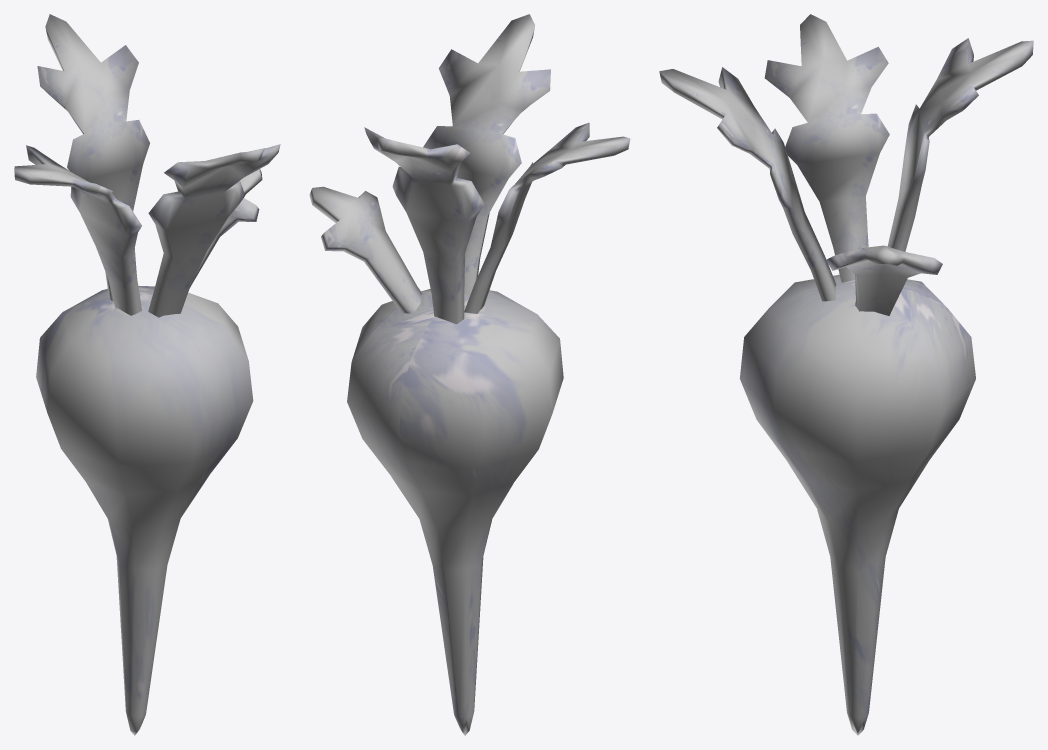
File: Radish.fbx
3 renders of one model, left to right at view 1: azimuth 30°, elevation 25°; view 2: azimuth 150°, elevation 25°; view 3: azimuth 270°, elevation 25°, orthographic. The views are drawn at different scales.
Parts seen in each view (by area): view 1: Radish; view 2: Radish; view 3: Radish.
Part boxes in pixels (<box>): Radish: <box>14,14,280,735</box>; Radish: <box>309,14,630,735</box>; Radish: <box>659,14,1033,735</box>.
Size of the model in its own units: 19.44 by 43.16 by 21.09.
